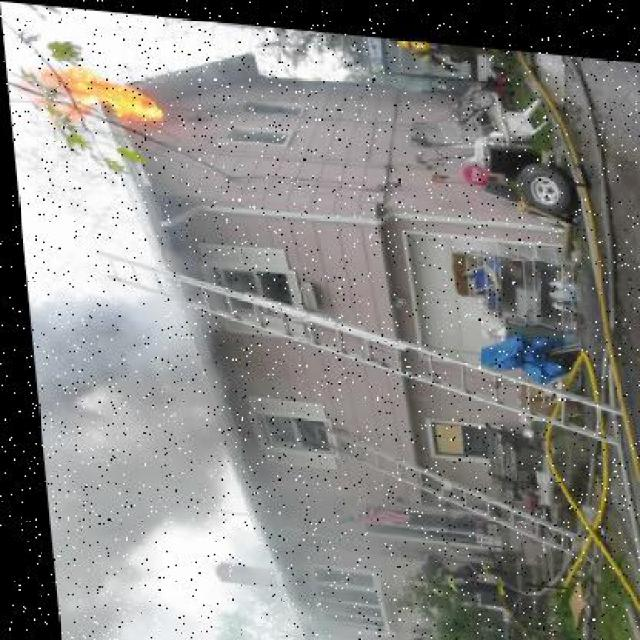fire: (3, 37, 174, 143)
